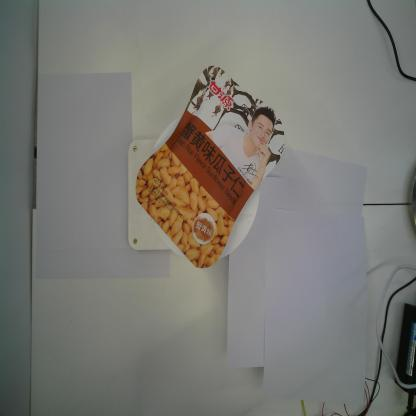Dried Fruit: (135, 64, 285, 270)
